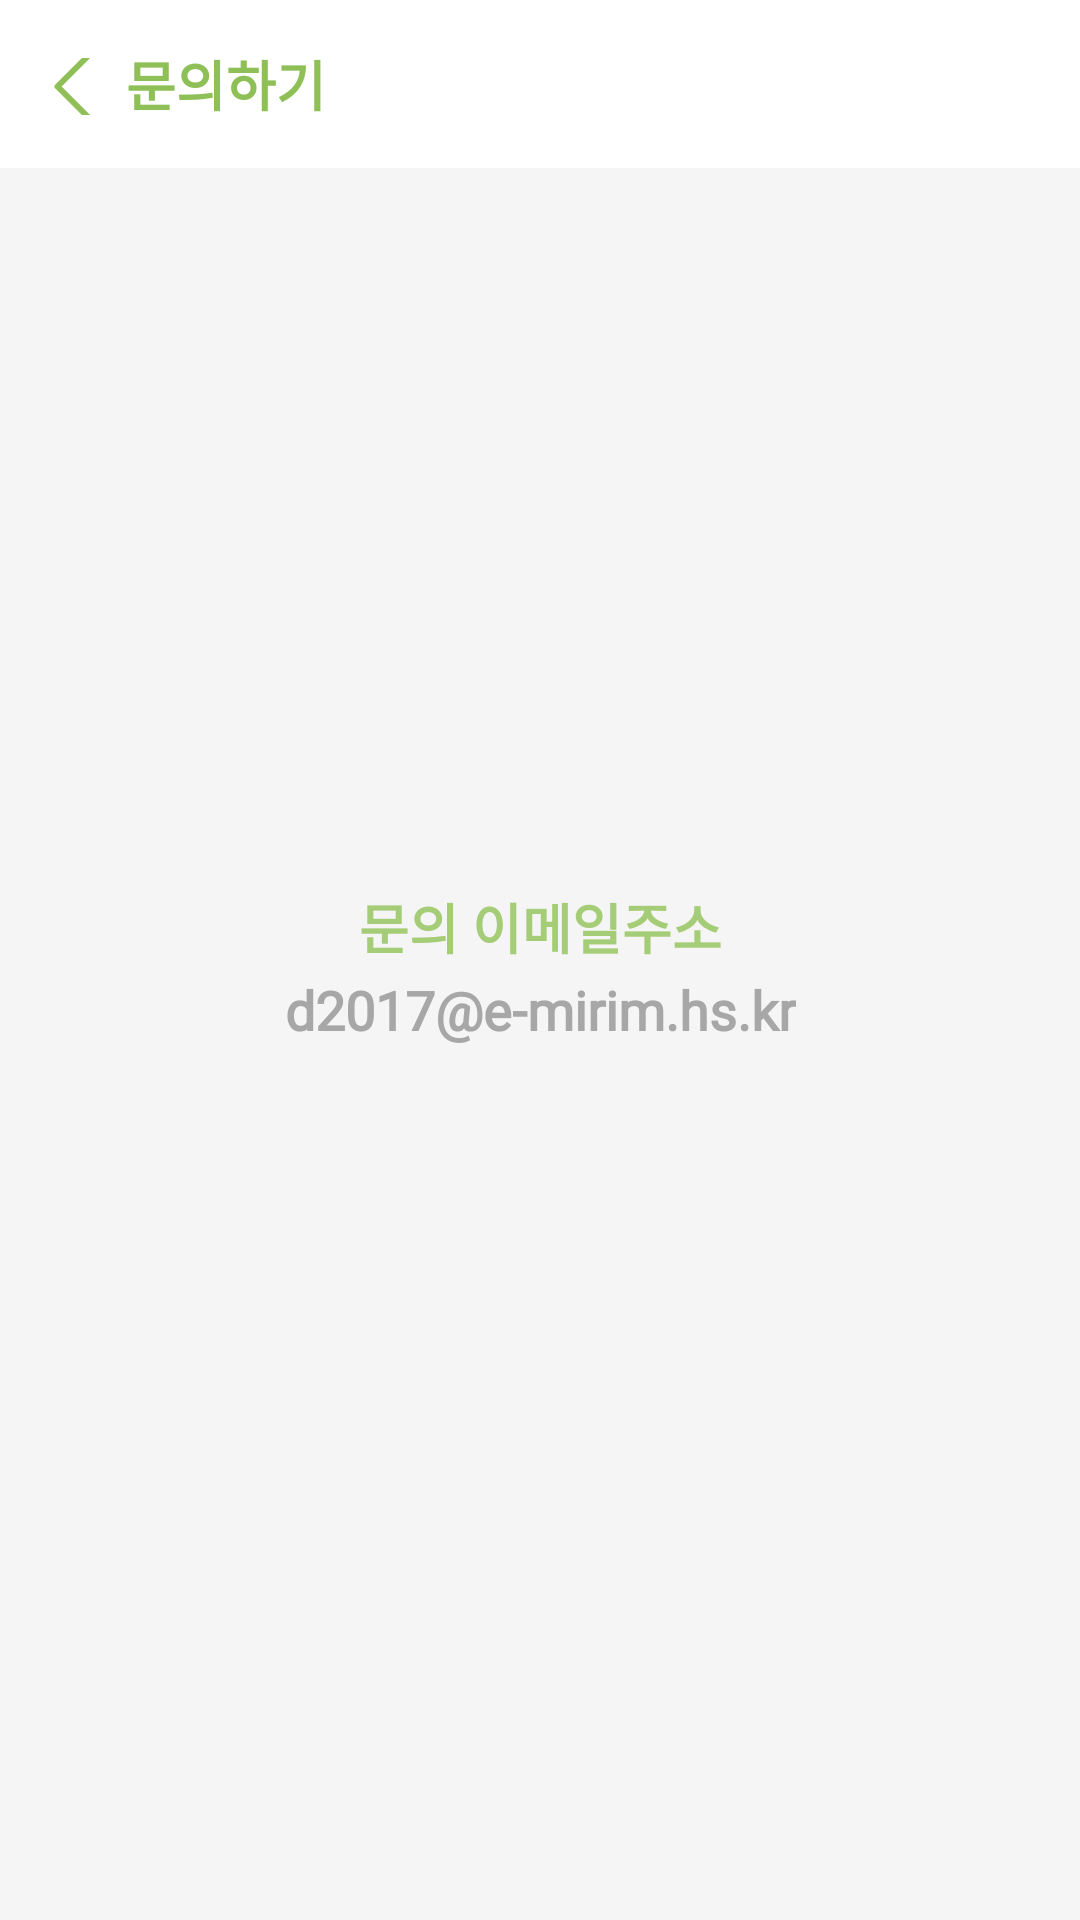

Named icons in this screenshot (1080px x 1920px) and their centers, (x=x, y=y):
back: (x=72, y=86)
